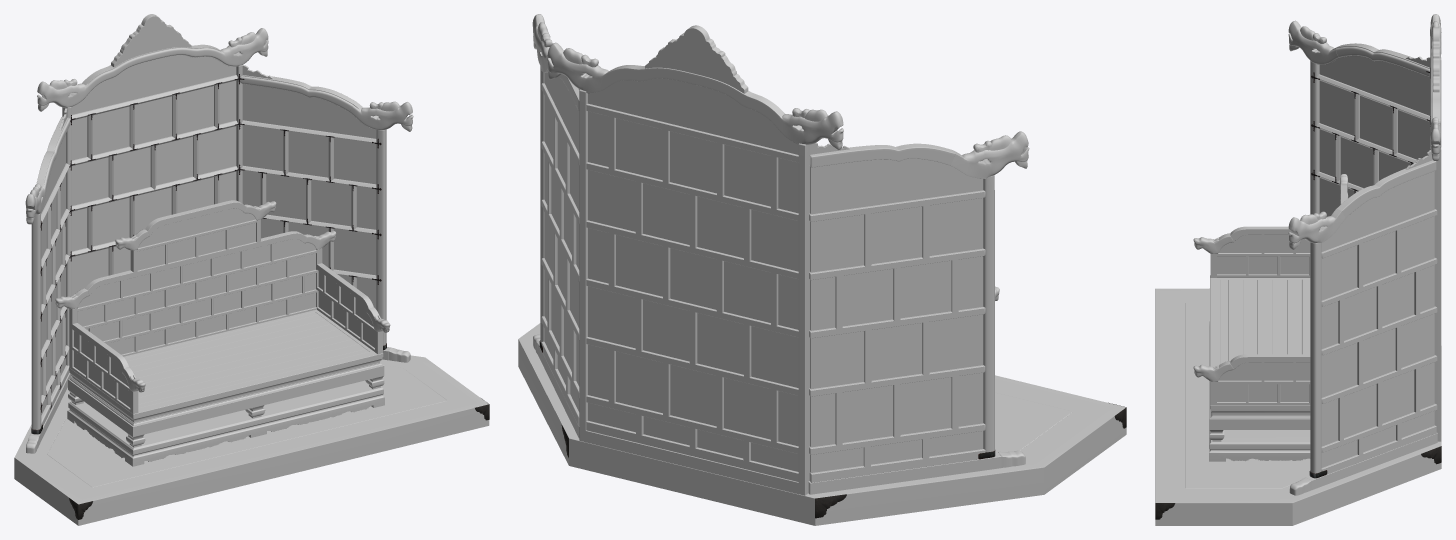
File: SM_GJJ_ThroneA.fbx
3 renders of one model, left to right at view 1: azimuth 30°, elevation 25°; view 2: azimuth 150°, elevation 25°; view 3: azimuth 270°, elevation 25°, orthographic. The views are drawn at different scales.
Visible parts, largest first — view 1: SM_GJJ_ThroneA; view 2: SM_GJJ_ThroneA; view 3: SM_GJJ_ThroneA.
Part boxes in pixels (x1=…): SM_GJJ_ThroneA: x1=14, y1=14, x2=489, y2=525; SM_GJJ_ThroneA: x1=518, y1=14, x2=1126, y2=525; SM_GJJ_ThroneA: x1=1155, y1=14, x2=1441, y2=525.
Size of the model in its own units: 304 by 258 by 171.
